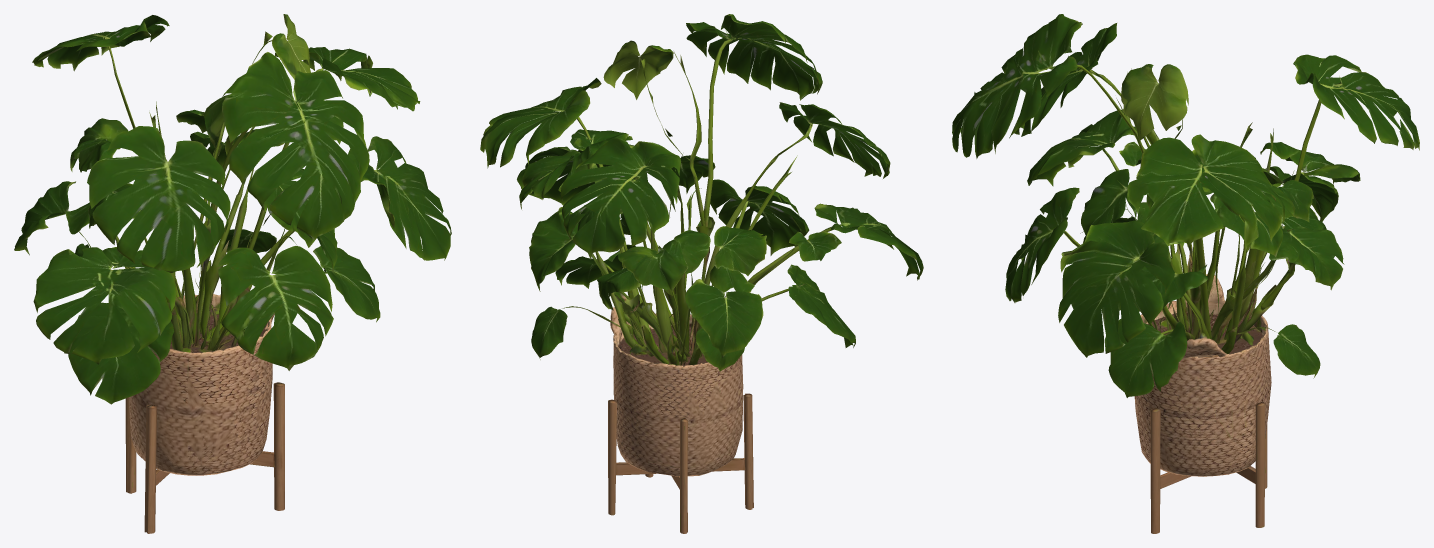
Rendered from indie-plant.glb.
The picture shows the model from 3 angles, left to right: view 1: azimuth 30°, elevation 25°; view 2: azimuth 150°, elevation 25°; view 3: azimuth 270°, elevation 25°; orthographic projection. The views are drawn at different scales.
Bounding box in the file's own units: 1.79 × 2 × 1.75.
Materials: 1 (1 with a texture image).
